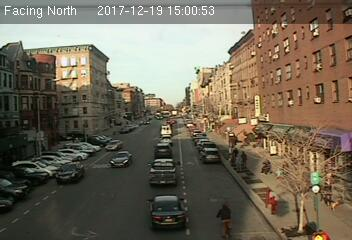bicycle: (216, 202, 236, 240)
car: (145, 193, 187, 228), (148, 160, 178, 186), (53, 162, 85, 183), (109, 152, 135, 167), (199, 147, 220, 162), (155, 142, 171, 157), (104, 140, 121, 150), (159, 134, 173, 143)
pedestrian: (242, 149, 249, 167), (232, 147, 239, 160)
